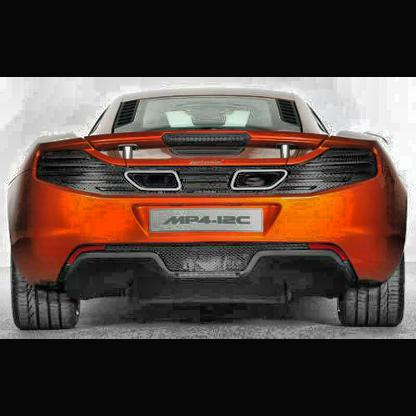McLaren MP4-12C Coupe 2012: (8, 88, 407, 330)
